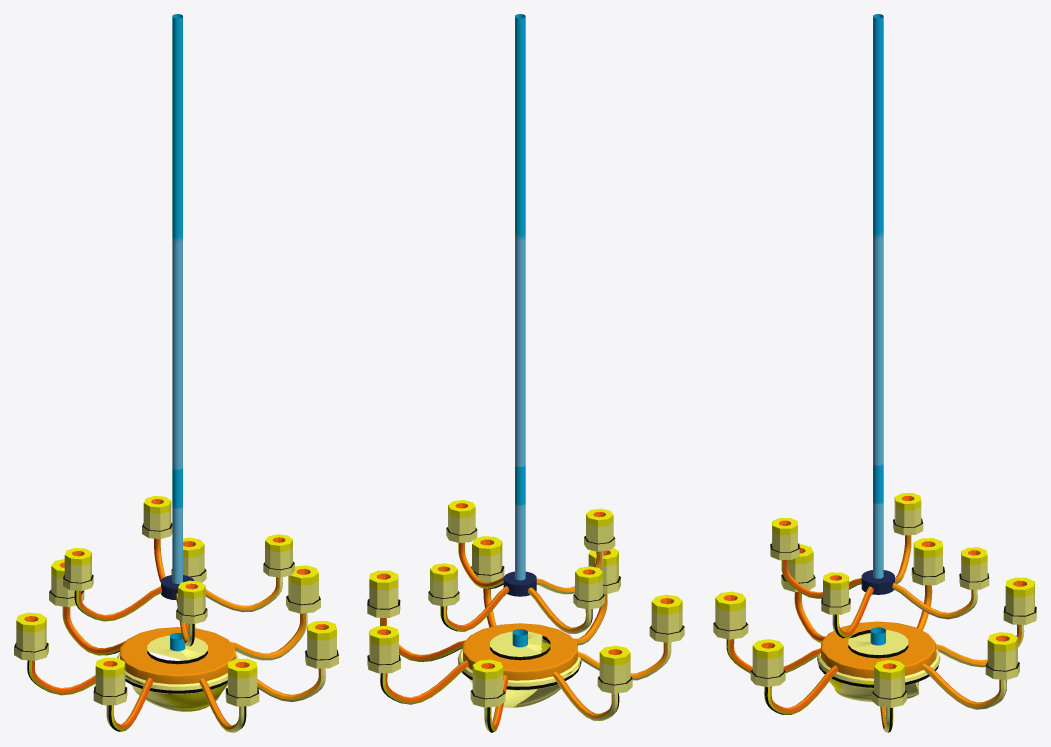
The model's file is Chandelier.fbx.
The picture shows the model from 3 angles, left to right: view 1: azimuth 30°, elevation 25°; view 2: azimuth 150°, elevation 25°; view 3: azimuth 270°, elevation 25°; orthographic projection.
Visible parts, largest first — view 1: Chandelier, ChandelierLampArm005, ChandelierLampArm010, ChandelierLampArm009, ChandelierLampArm008, ChandelierLampArm001, ChandelierLampArm003, ChandelierLampArm004, ChandelierLampArm007, ChandelierLampArm, ChandelierLampArm002, ChandelierLampArm006; view 2: Chandelier, ChandelierLampArm006, ChandelierLampArm008, ChandelierLampArm009, ChandelierLampArm005, ChandelierLampArm007, ChandelierLampArm002, ChandelierLampArm003, ChandelierLampArm004, ChandelierLampArm, ChandelierLampArm001, ChandelierLampArm010; view 3: Chandelier, ChandelierLampArm006, ChandelierLampArm001, ChandelierLampArm010, ChandelierLampArm007, ChandelierLampArm002, ChandelierLampArm005, ChandelierLampArm008, ChandelierLampArm004, ChandelierLampArm, ChandelierLampArm003, ChandelierLampArm009.
Part boxes in pixels (x1=…): Chandelier: x1=117, y1=14, x2=238, y2=711; ChandelierLampArm005: x1=230, y1=565, x2=320, y2=660; ChandelierLampArm010: x1=199, y1=658, x2=259, y2=732; ChandelierLampArm009: x1=93, y1=657, x2=153, y2=731; ChandelierLampArm008: x1=14, y1=612, x2=95, y2=695; ChandelierLampArm001: x1=257, y1=620, x2=338, y2=701; ChandelierLampArm003: x1=63, y1=548, x2=161, y2=621; ChandelierLampArm004: x1=205, y1=534, x2=294, y2=612; ChandelierLampArm007: x1=49, y1=559, x2=125, y2=655; ChandelierLampArm: x1=175, y1=580, x2=207, y2=646; ChandelierLampArm002: x1=142, y1=496, x2=172, y2=582; ChandelierLampArm006: x1=171, y1=537, x2=206, y2=627; Chandelier: x1=457, y1=14, x2=581, y2=707; ChandelierLampArm006: x1=367, y1=626, x2=468, y2=704; ChandelierLampArm008: x1=552, y1=645, x2=632, y2=720; ChandelierLampArm009: x1=577, y1=594, x2=684, y2=680; ChandelierLampArm005: x1=367, y1=570, x2=465, y2=661; ChandelierLampArm007: x1=470, y1=659, x2=508, y2=732; ChandelierLampArm002: x1=428, y1=563, x2=509, y2=631; ChandelierLampArm003: x1=528, y1=566, x2=604, y2=633; ChandelierLampArm004: x1=446, y1=500, x2=503, y2=589; ChandelierLampArm: x1=536, y1=508, x2=615, y2=594; ChandelierLampArm001: x1=471, y1=536, x2=504, y2=627; ChandelierLampArm010: x1=573, y1=547, x2=620, y2=645; Chandelier: x1=817, y1=14, x2=940, y2=701; ChandelierLampArm006: x1=922, y1=632, x2=1019, y2=709; ChandelierLampArm001: x1=750, y1=639, x2=838, y2=714; ChandelierLampArm010: x1=713, y1=591, x2=820, y2=673; ChandelierLampArm007: x1=935, y1=577, x2=1036, y2=667; ChandelierLampArm002: x1=892, y1=547, x2=989, y2=619; ChandelierLampArm005: x1=872, y1=660, x2=906, y2=732; ChandelierLampArm008: x1=911, y1=538, x2=944, y2=630; ChandelierLampArm004: x1=821, y1=572, x2=873, y2=638; ChandelierLampArm: x1=770, y1=518, x2=861, y2=598; ChandelierLampArm003: x1=893, y1=493, x2=923, y2=583; ChandelierLampArm009: x1=781, y1=544, x2=825, y2=642.
Bounding box in the file's own units: 42.89 × 99.49 × 42.96.
